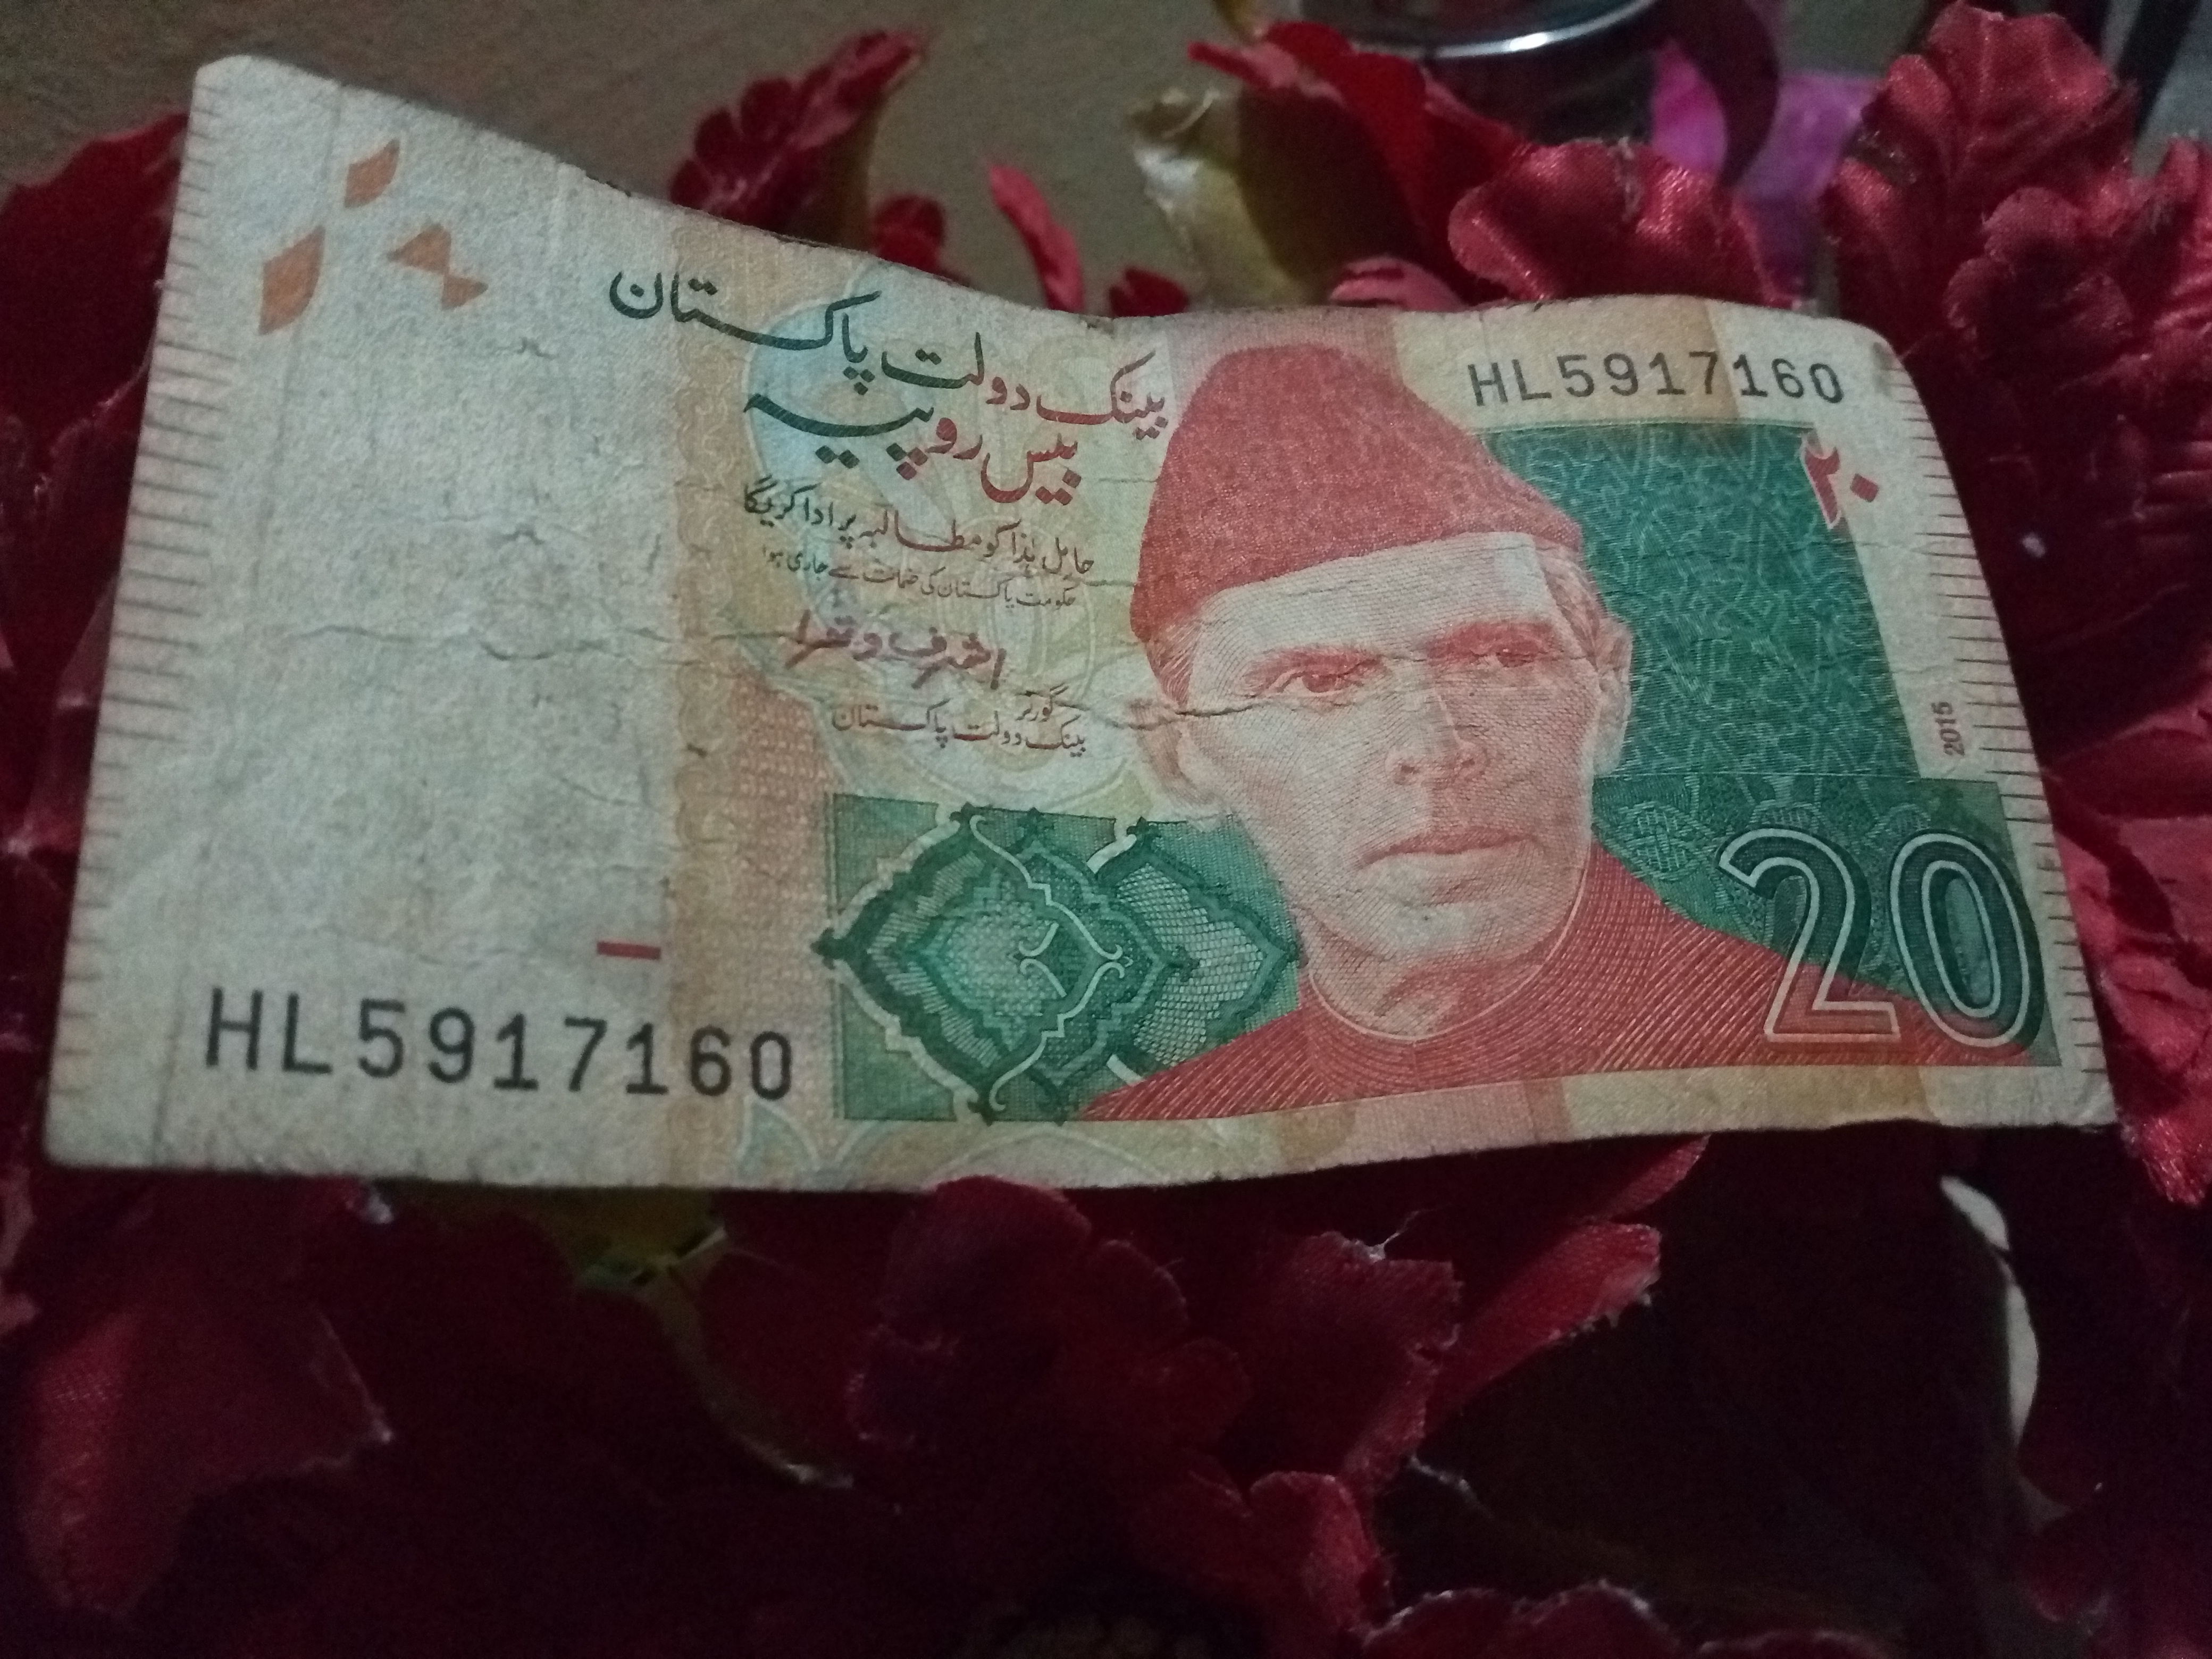20 rupee: (82, 45, 2087, 1229)
